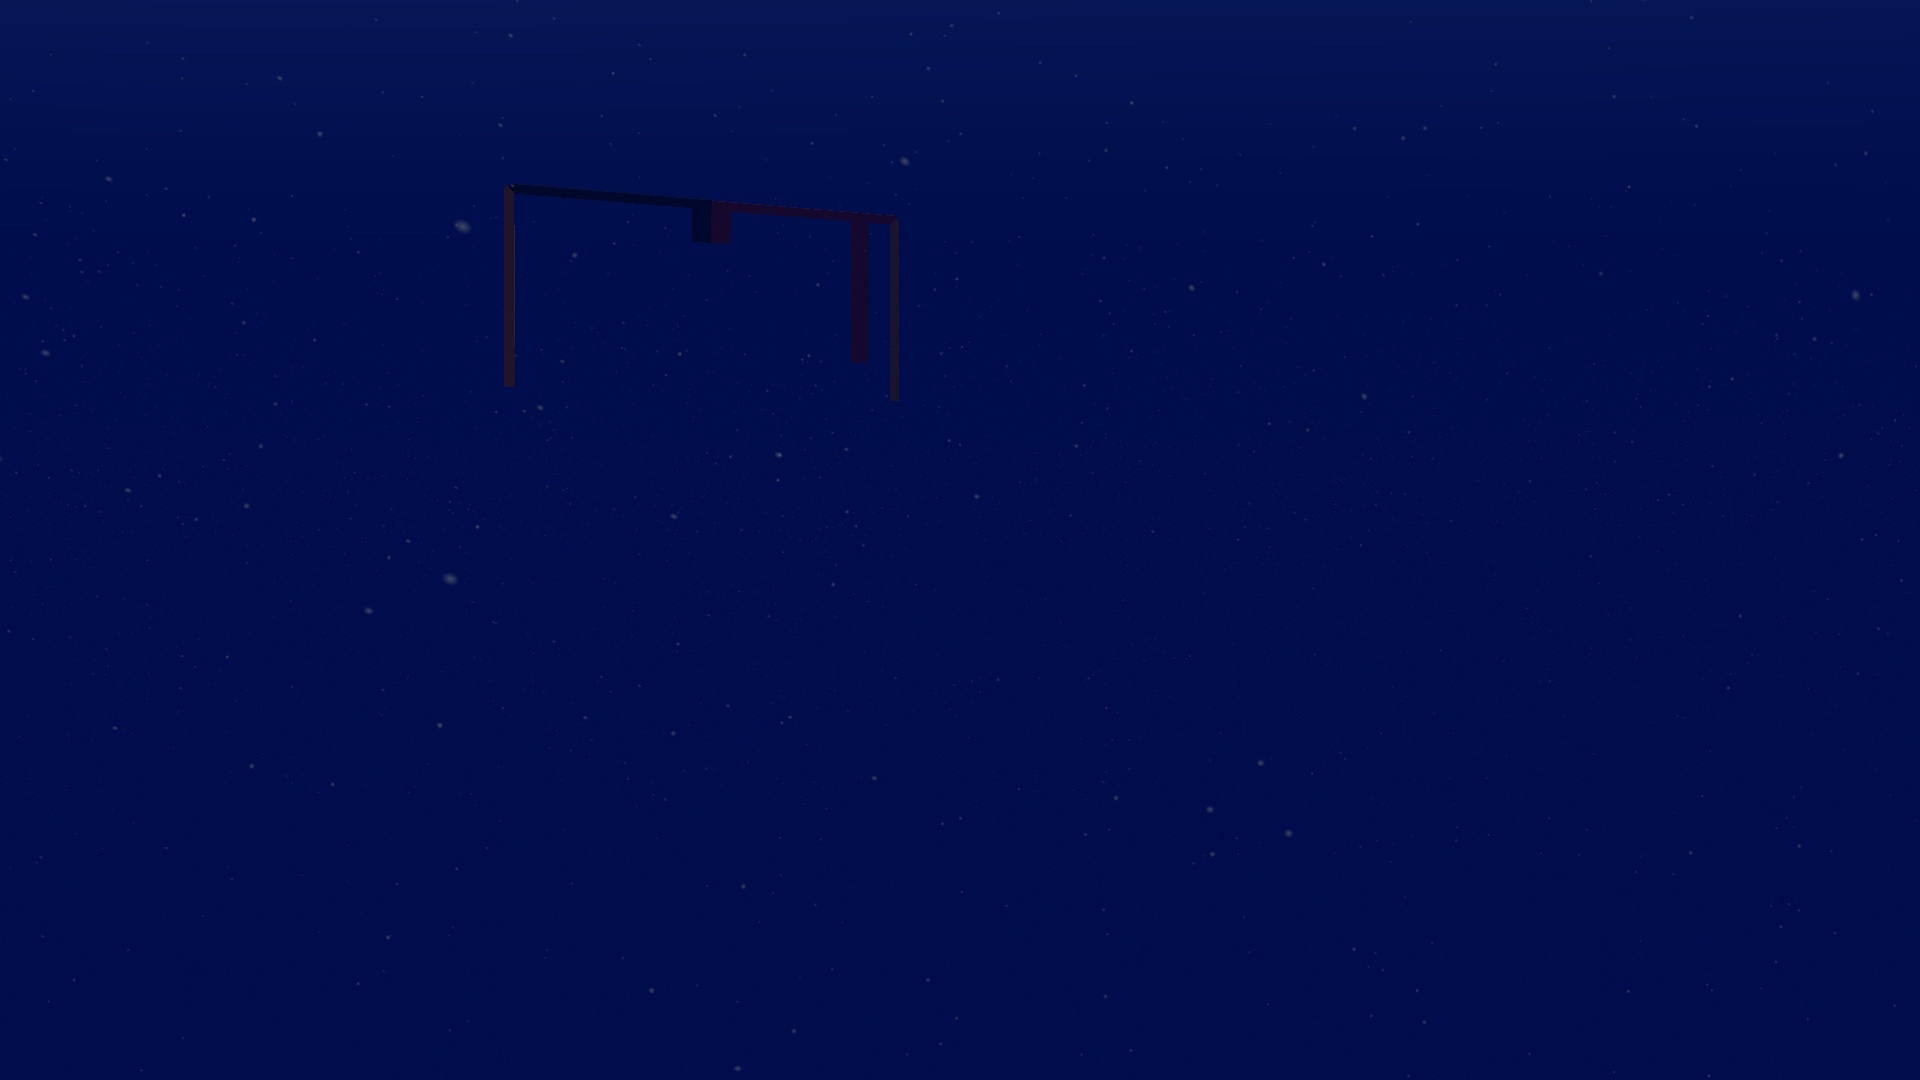Gate: (495, 175, 907, 413)
